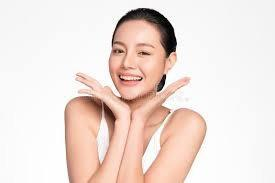Sober: (111, 25, 163, 96)
